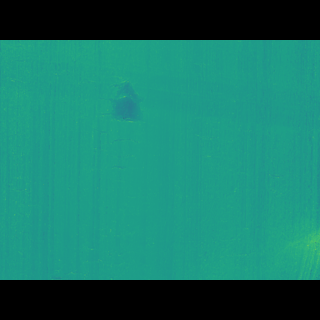Loch: (91, 98, 151, 138)
